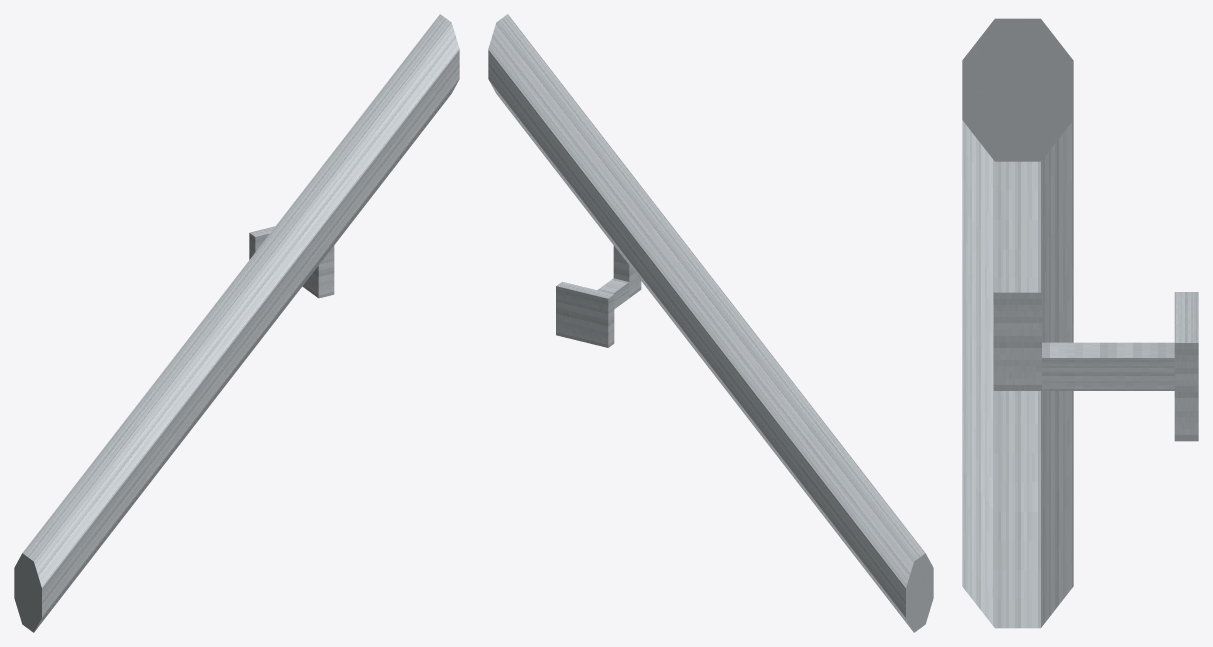
Rendered from mid_pos.obj.
3 renders of one model, left to right at view 1: azimuth 30°, elevation 25°; view 2: azimuth 150°, elevation 25°; view 3: azimuth 270°, elevation 25°, orthographic. The views are drawn at different scales.
Parts seen in each view (by area): view 1: handrail_wall_stainless_round_mid_pos; view 2: handrail_wall_stainless_round_mid_pos; view 3: handrail_wall_stainless_round_mid_pos.
Boxes of the visible parts, x1,y1,x2,y2 form: handrail_wall_stainless_round_mid_pos: (14,14,459,632); handrail_wall_stainless_round_mid_pos: (488,14,933,632); handrail_wall_stainless_round_mid_pos: (962,18,1198,628).
Bounding box in the file's own units: 1 × 1.16 × 0.2452.
